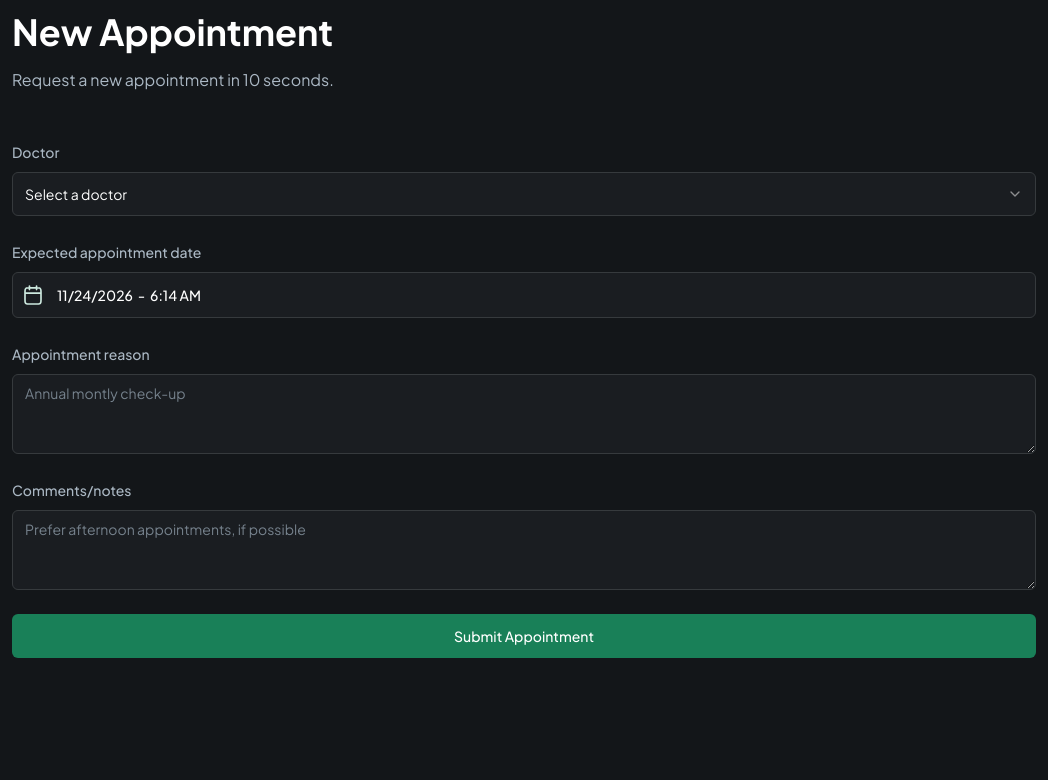
Test case: AppointmentForm › VAL-09/VAL-11 create: requires doctor and reason
This screenshot has width=1048, height=780.
Click the button "Submit Appointment" at coordinates (524, 636), box [12, 614, 1036, 658]
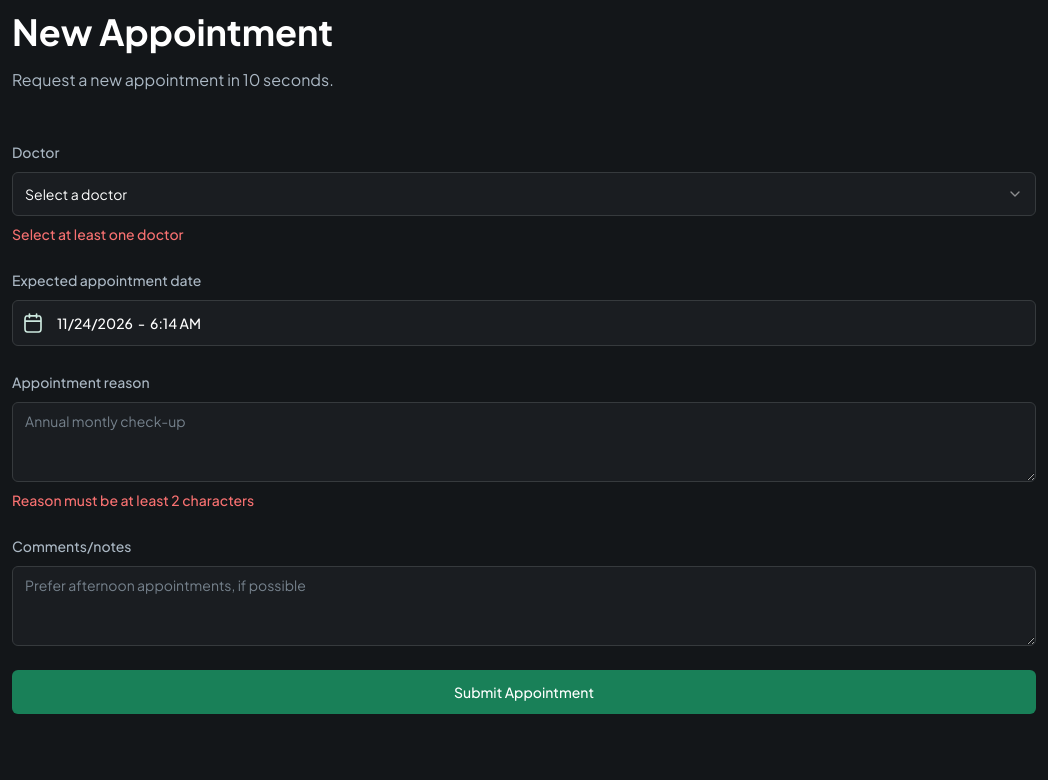
Expected: the text "Select at least one doctor" is shown, [12, 225, 184, 243]
Expected: the text "Reason must be at least 2 characters" is shown, [12, 491, 254, 509]
